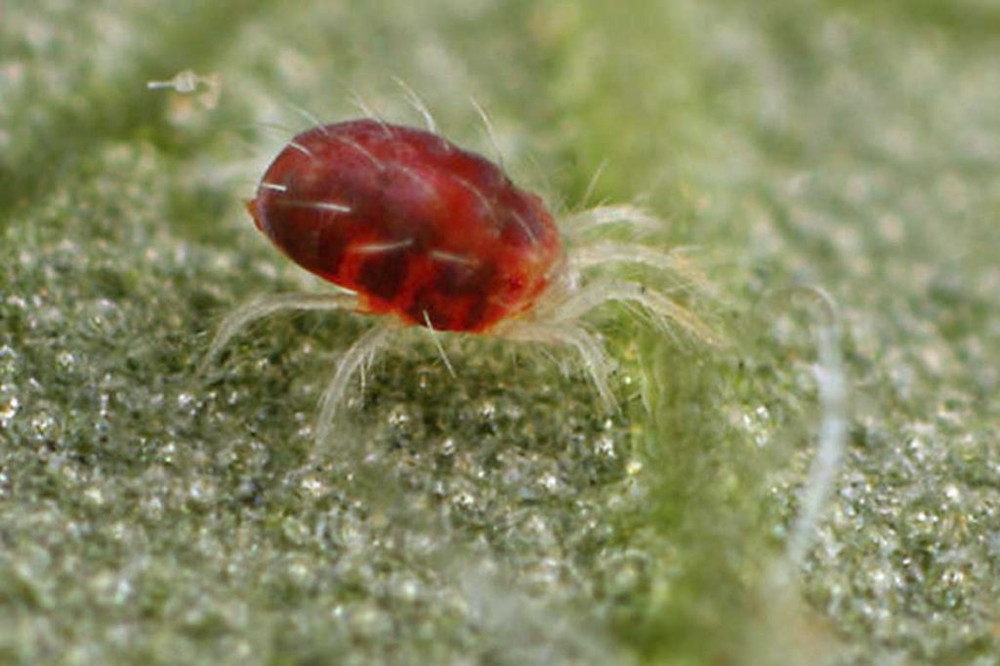Aracnido Rojo: (201, 90, 740, 479)
